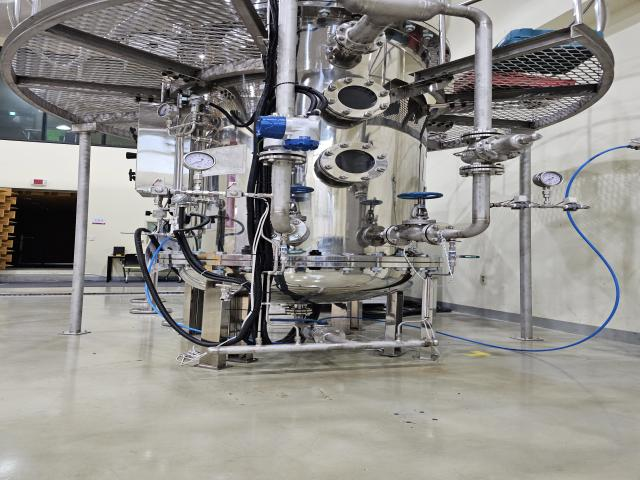Flange: (316, 141, 390, 184), (323, 78, 394, 120)
Flush Ring: (334, 19, 389, 52), (261, 216, 308, 243), (253, 149, 311, 166), (422, 222, 454, 246), (310, 326, 352, 344), (459, 129, 514, 142), (385, 224, 413, 246), (458, 164, 508, 176)
GasRegulator: (155, 95, 231, 144)
Nuts: (218, 189, 255, 200), (505, 199, 536, 212), (146, 185, 177, 197), (558, 200, 586, 213)
Piston Valve: (397, 185, 445, 224), (291, 183, 318, 212)
Pressure Gage: (182, 149, 219, 192), (528, 169, 566, 205)
